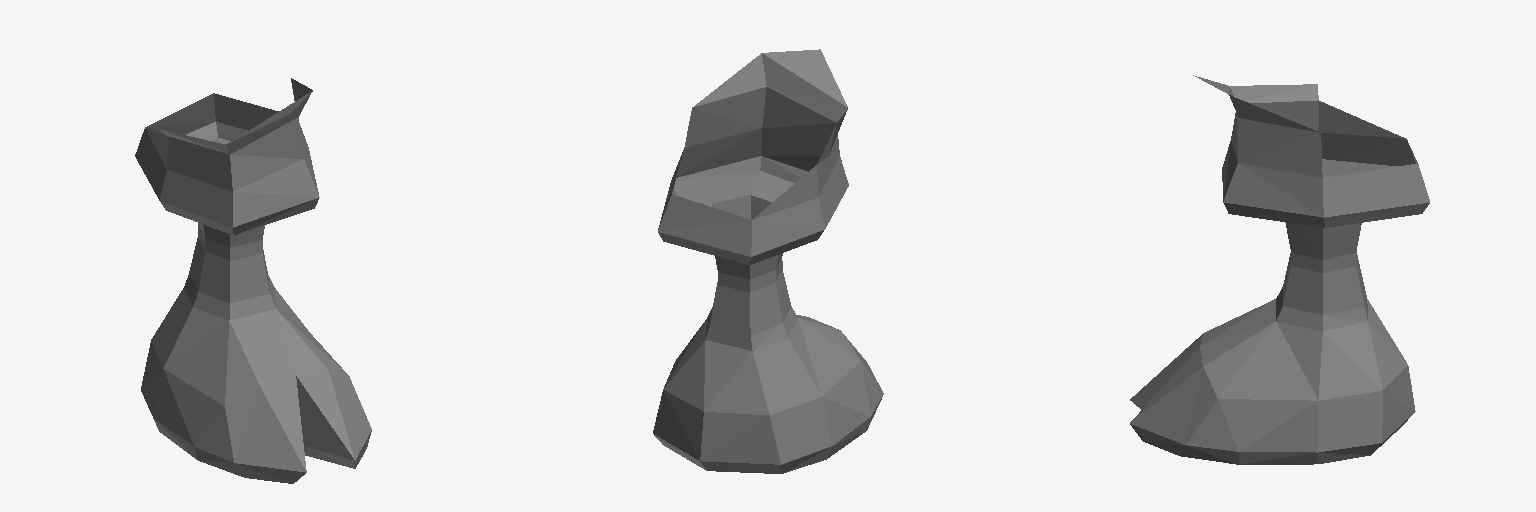
The model's file is chopper_pata_izquierda.obj.
3 renders of one model, left to right at view 1: azimuth 30°, elevation 25°; view 2: azimuth 150°, elevation 25°; view 3: azimuth 270°, elevation 25°, orthographic.
Parts seen in each view (by area): view 1: pata_izquierda; view 2: pata_izquierda; view 3: pata_izquierda.
Boxes of the visible parts, x1,y1,x2,y2 form: pata_izquierda: [135, 78, 371, 483]; pata_izquierda: [653, 49, 883, 473]; pata_izquierda: [1130, 75, 1429, 464].
Size of the model in its own units: 0.8326 by 1.68 by 1.3.